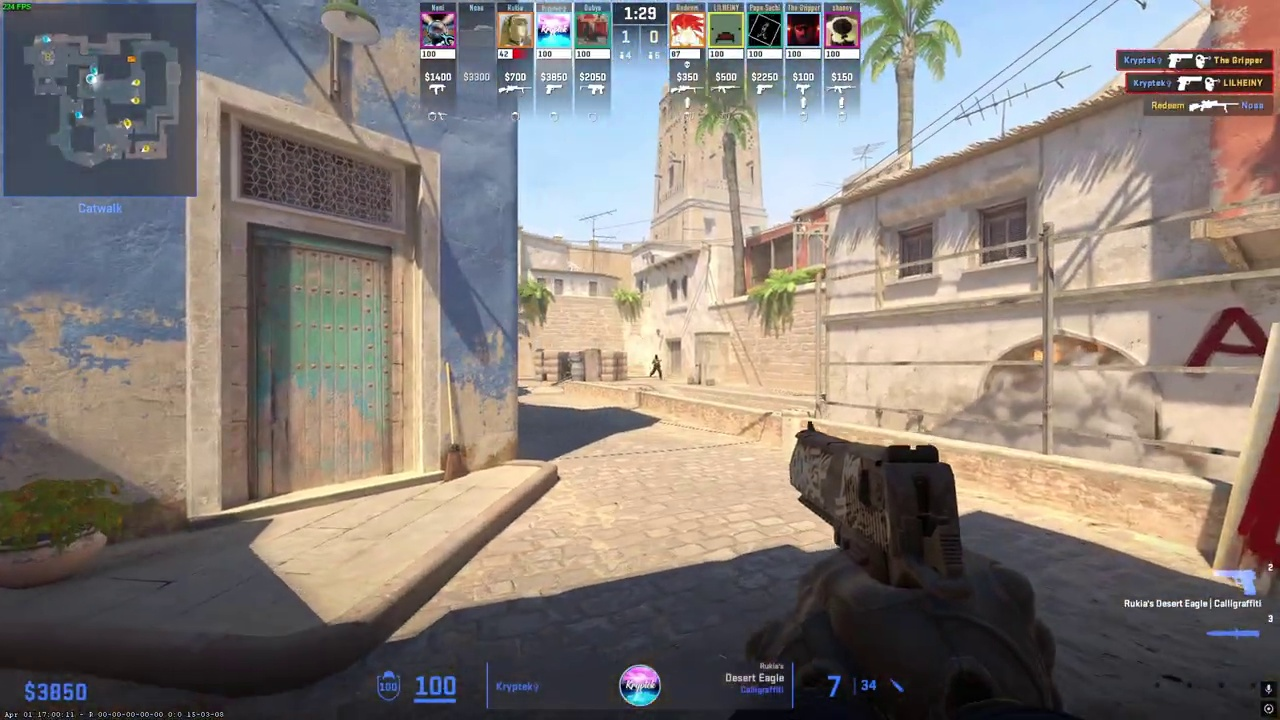Terrorist: (650, 354, 662, 379)
